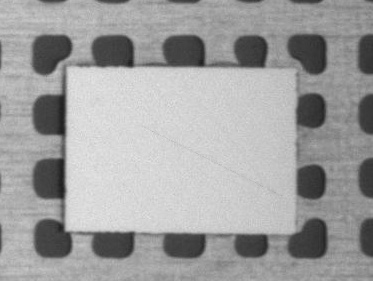DIE_CRACK: (188, 95, 373, 147)
